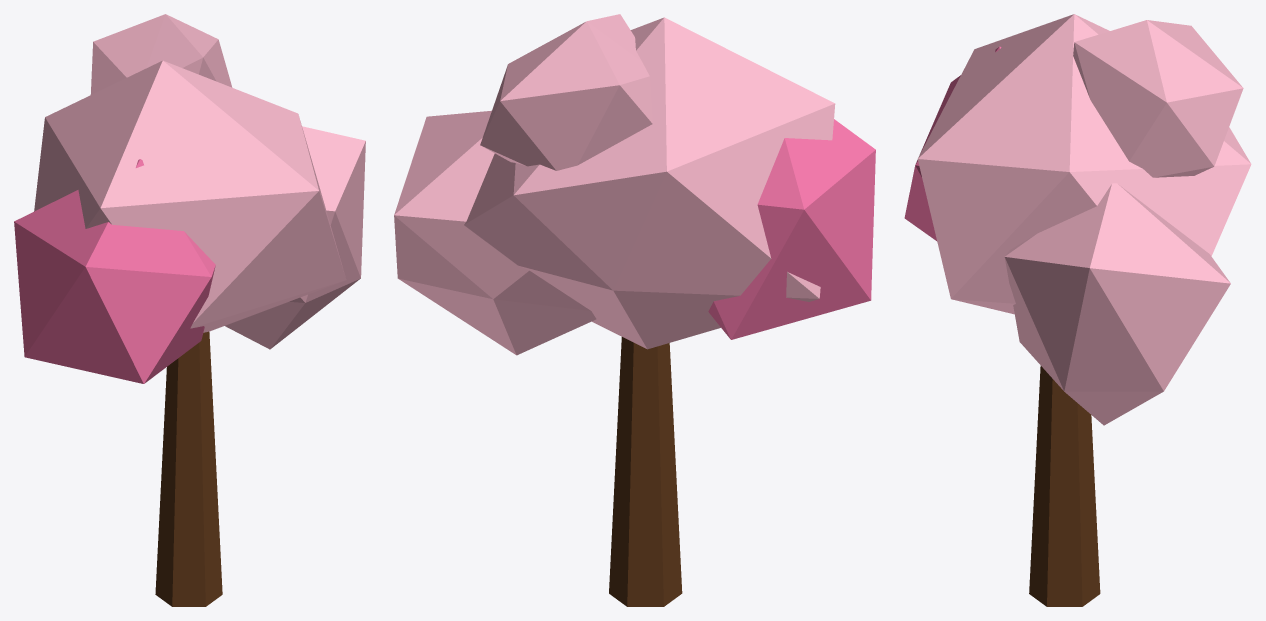
File: castle-cherry-tree.glb
3 renders of one model, left to right at view 1: azimuth 30°, elevation 25°; view 2: azimuth 150°, elevation 25°; view 3: azimuth 270°, elevation 25°, orthographic. The views are drawn at different scales.
Visible parts, largest first — view 1: cherry_tree; view 2: cherry_tree; view 3: cherry_tree.
Part boxes in pixels (bbox=[...]): cherry_tree: bbox=[14, 14, 365, 606]; cherry_tree: bbox=[394, 14, 875, 606]; cherry_tree: bbox=[904, 14, 1251, 606].
Size of the model in its own units: 3.22 by 4.51 by 2.44.
